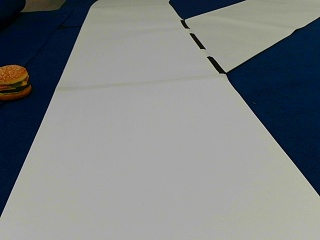burger: (0, 63, 31, 100)
